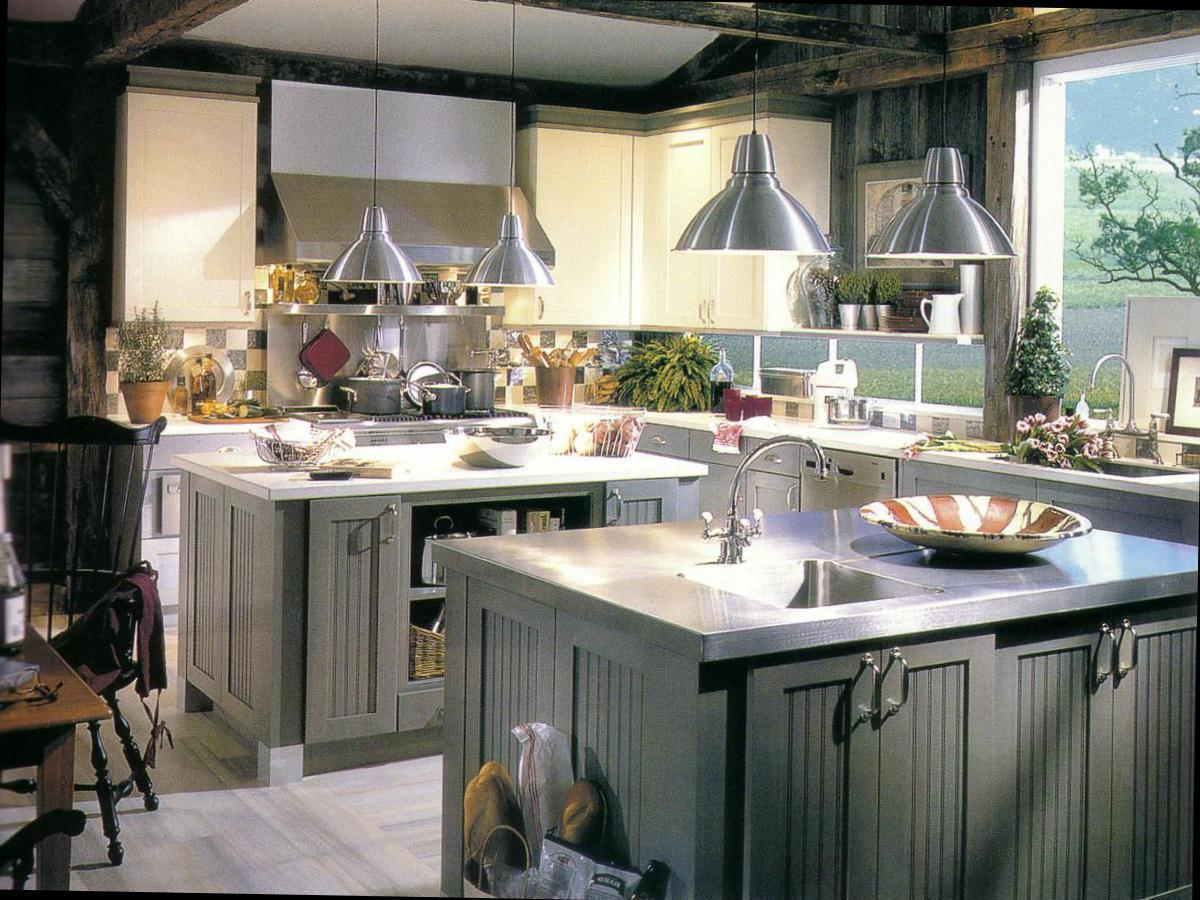Lavaplatos: (672, 446, 900, 638), (979, 353, 1170, 485)
